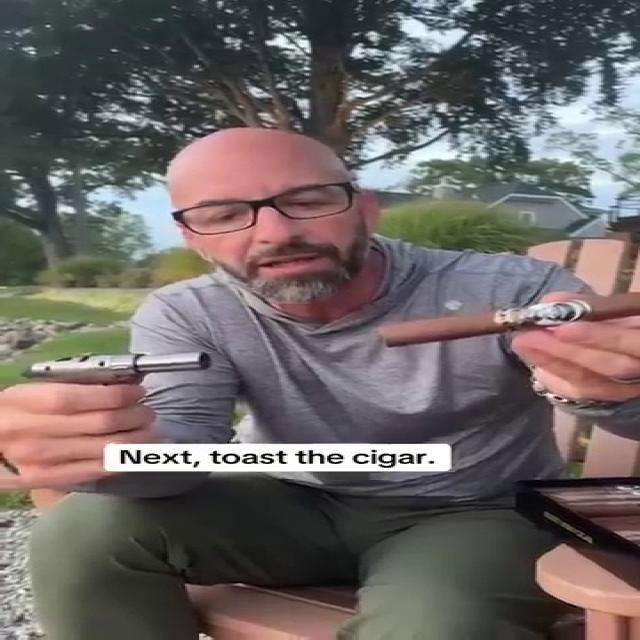Cigarette: (378, 292, 638, 347)
Hand: (488, 288, 640, 419)
Mouth: (250, 254, 334, 274)
